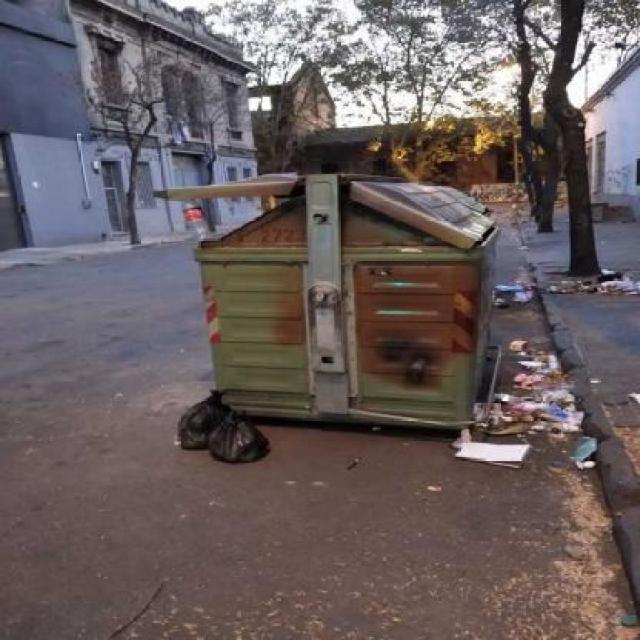garbage: (474, 280, 590, 468), (582, 265, 636, 308)
